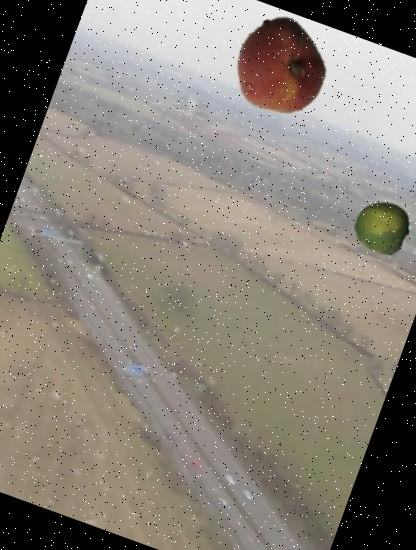Limes: (346, 193, 416, 263)
Nectarine: (215, 3, 342, 130)
